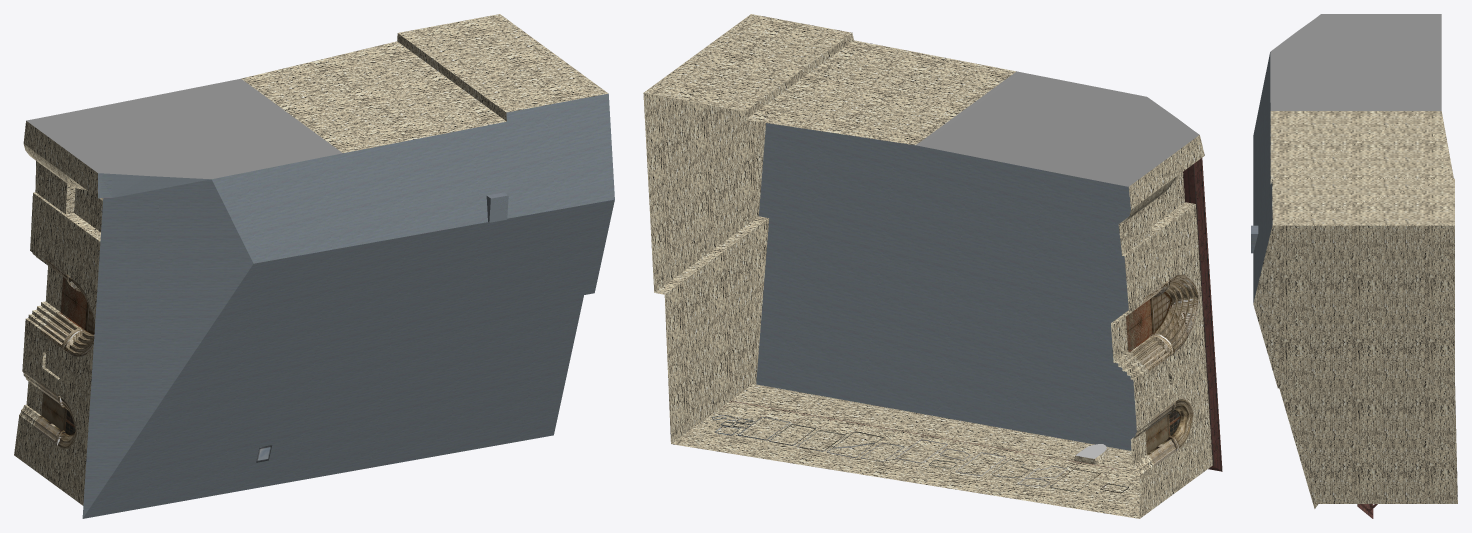
Rendered from Myyrivahe_37.obj.
3 views of the same model, side by side, from view 1: azimuth 30°, elevation 25°; view 2: azimuth 150°, elevation 25°; view 3: azimuth 270°, elevation 25° (orthographic). The views are drawn at different scales.
Visible parts, largest first — view 1: Myyrivahe_37; view 2: Myyrivahe_37; view 3: Myyrivahe_37.
Boxes of the visible parts, <box> form: Myyrivahe_37: <box>14,14,614,518</box>; Myyrivahe_37: <box>643,14,1222,518</box>; Myyrivahe_37: <box>1251,14,1457,518</box>.
Size of the model in its own units: 33.37 by 24.11 by 14.21.
